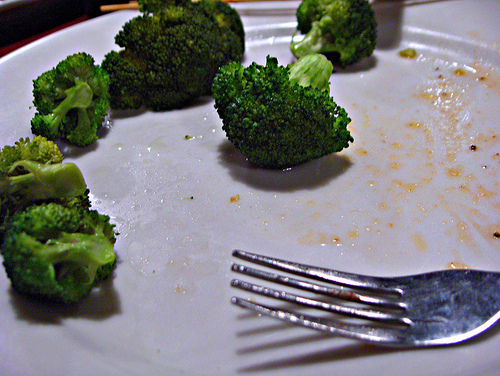broccoli: (210, 54, 355, 167), (104, 1, 245, 114), (2, 202, 119, 307), (29, 52, 112, 150), (0, 133, 92, 210), (292, 0, 378, 67)
